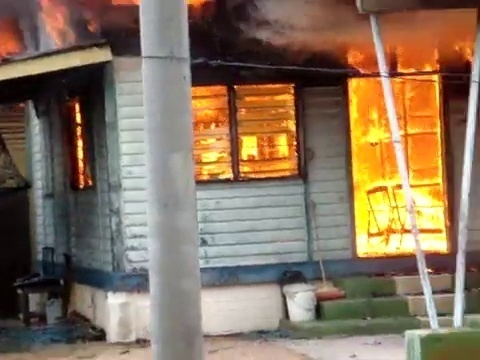fire: (349, 38, 457, 262), (193, 76, 301, 181), (68, 98, 88, 187)
